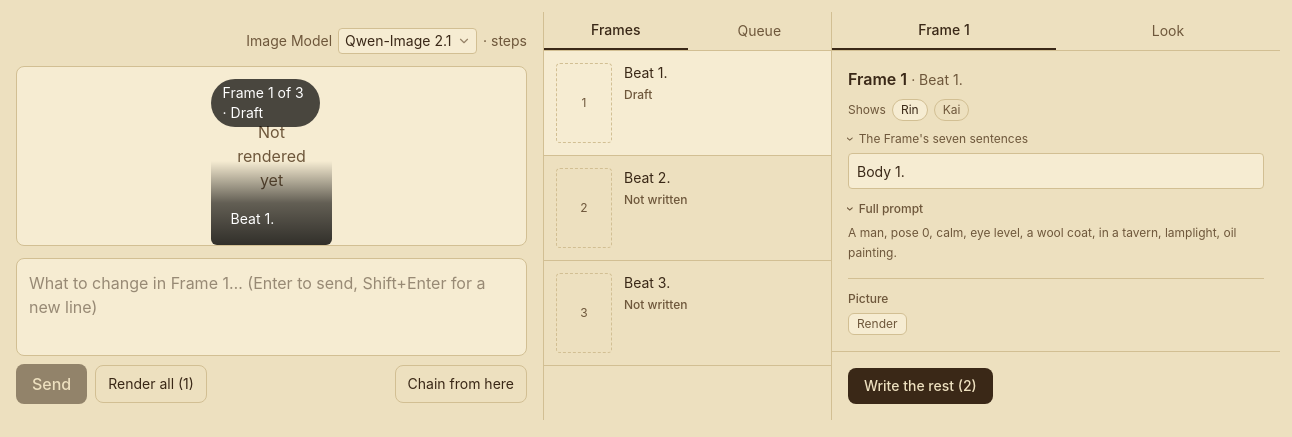
StoryboardView › offers to write the rest after a write that stopped part-way
Expected: the button "Write the rest (2)" is shown, [848, 368, 993, 404]
The plan is fixed once a Frame is written, Beats not yet written included.
Click the button "2 Beat 2. Not written".
click(688, 208)  # box [544, 156, 831, 261]
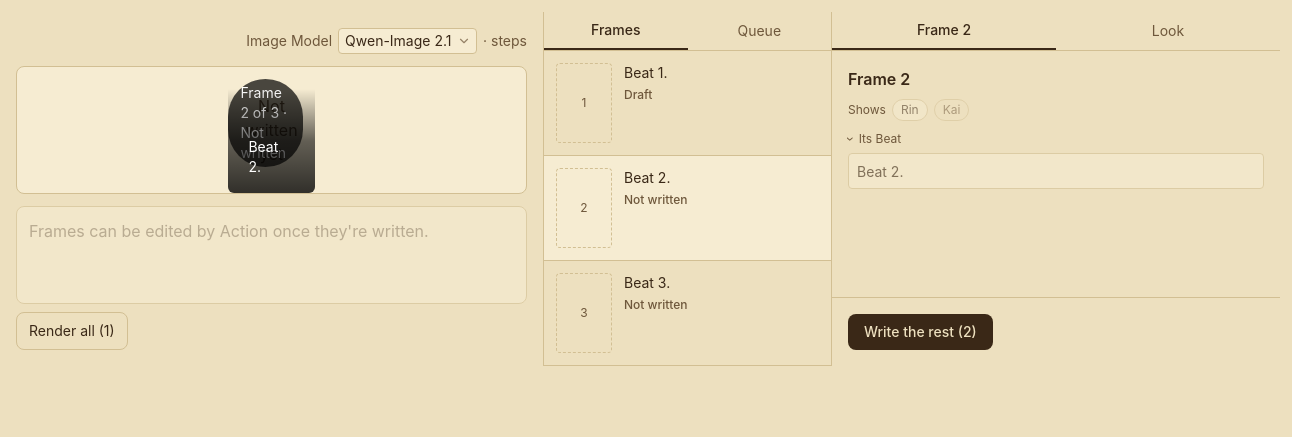
Expected: the 1st text box is disabled, [848, 153, 1264, 189]
